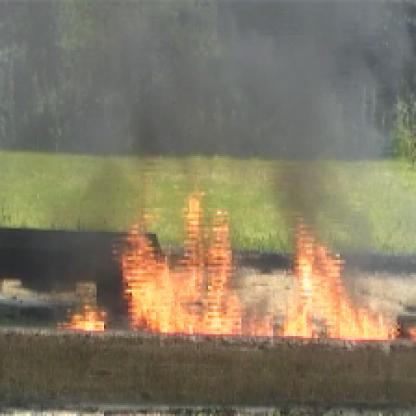Fire: (67, 186, 412, 344)
Smoke: (2, 2, 366, 232)
